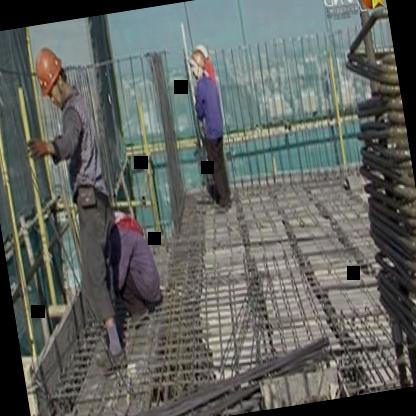helmet: (27, 38, 76, 117)
